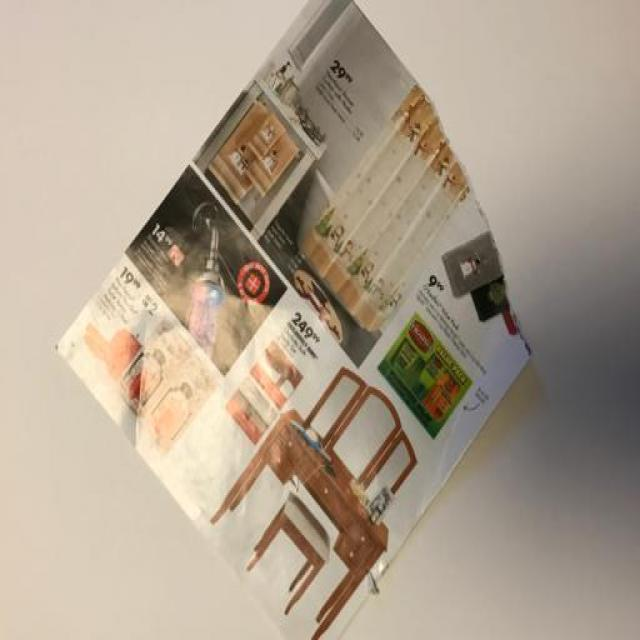paper: (59, 4, 523, 640)
